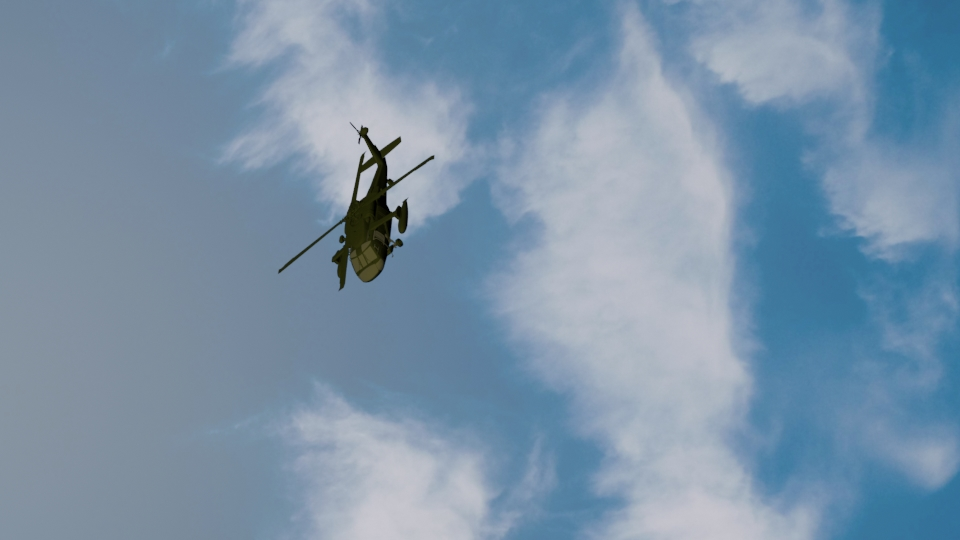heli: (274, 126, 436, 288)
